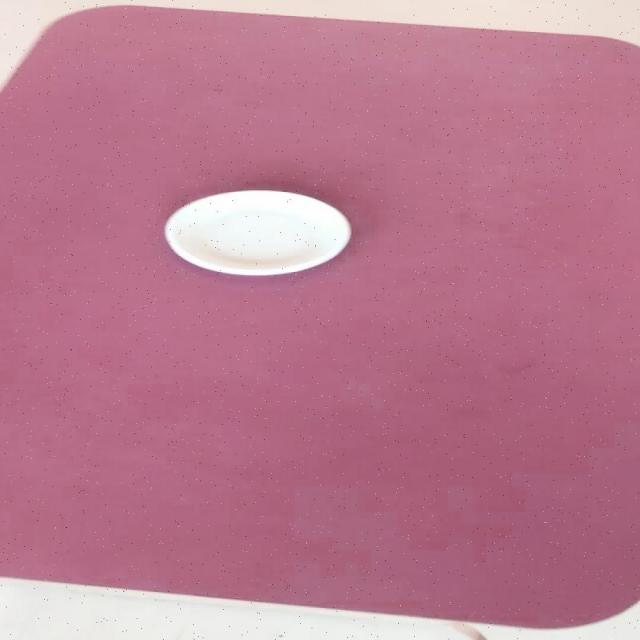Plate: (162, 189, 351, 276)
